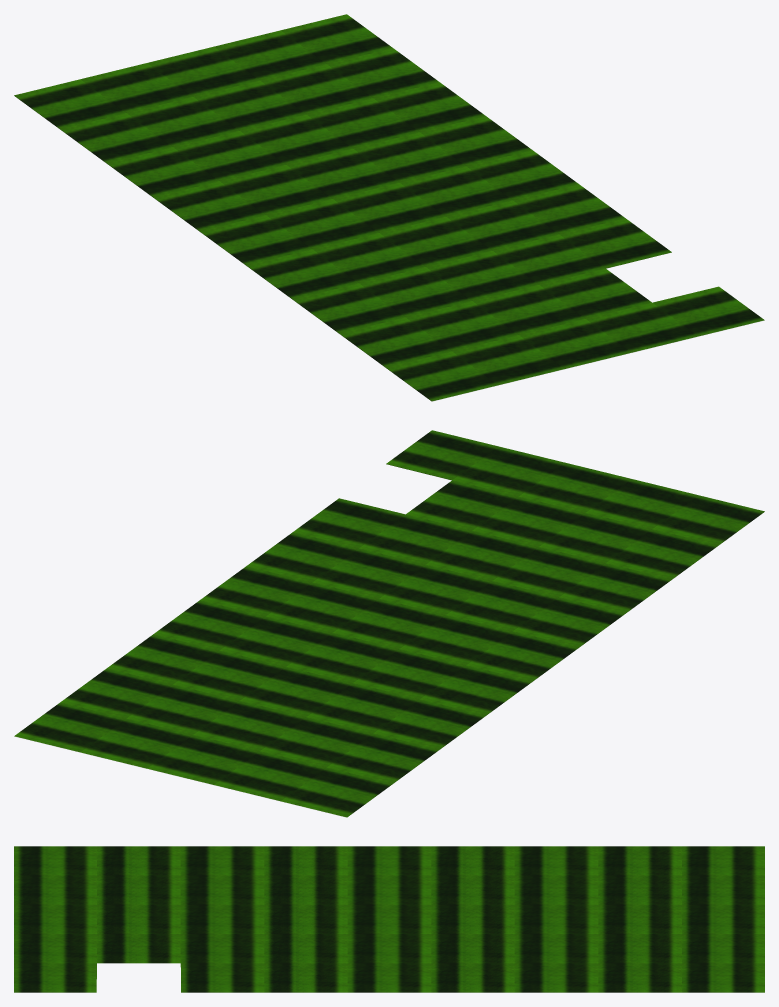
The model's file is PlayableFloor1.fbx.
The picture shows the model from 3 angles, top to bottom: view 1: azimuth 30°, elevation 25°; view 2: azimuth 150°, elevation 25°; view 3: azimuth 270°, elevation 25°; orthographic projection. The views are drawn at different scales.
Visible parts, largest first — view 1: Sol_Herbe.001; view 2: Sol_Herbe.001; view 3: Sol_Herbe.001.
Part boxes in pixels (x1,y1,x2,y2): Sol_Herbe.001: (14,14,764,401); Sol_Herbe.001: (14,430,764,817); Sol_Herbe.001: (14,846,764,992).
Bounding box in the file's own units: 280 × 0.2618 × 610.
